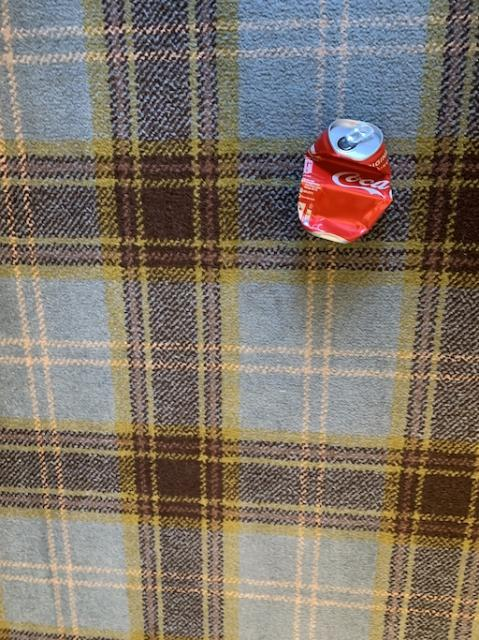metal: (297, 118, 391, 241)
